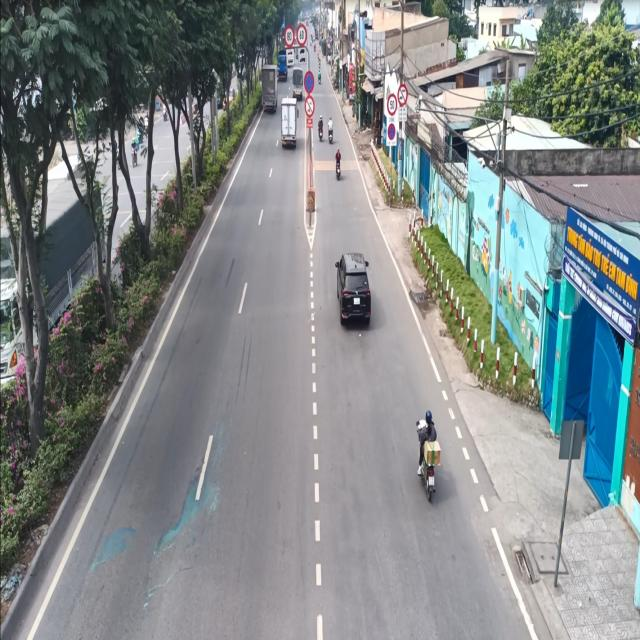car: (336, 246, 375, 340)
motor: (411, 405, 446, 505), (331, 144, 344, 182)
truck: (279, 92, 299, 155), (260, 60, 281, 115)
